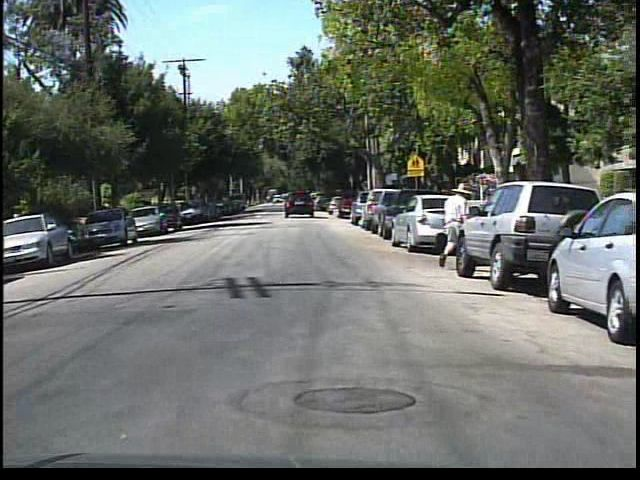person: (430, 181, 469, 271)
